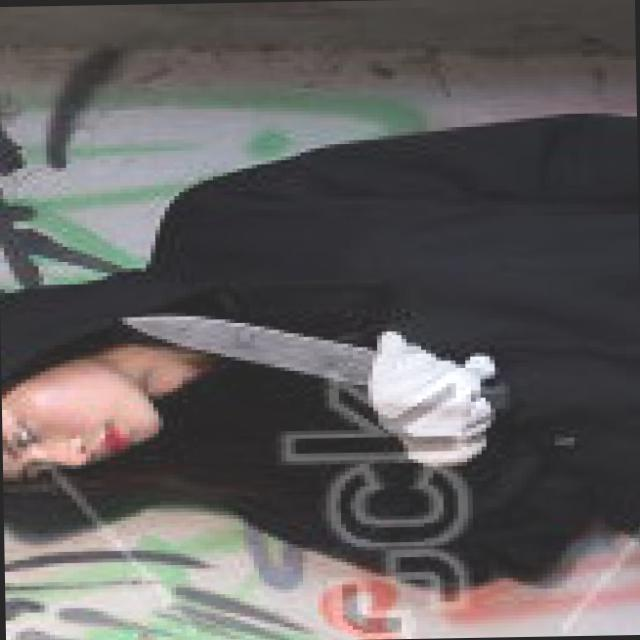knife: (102, 306, 460, 406)
